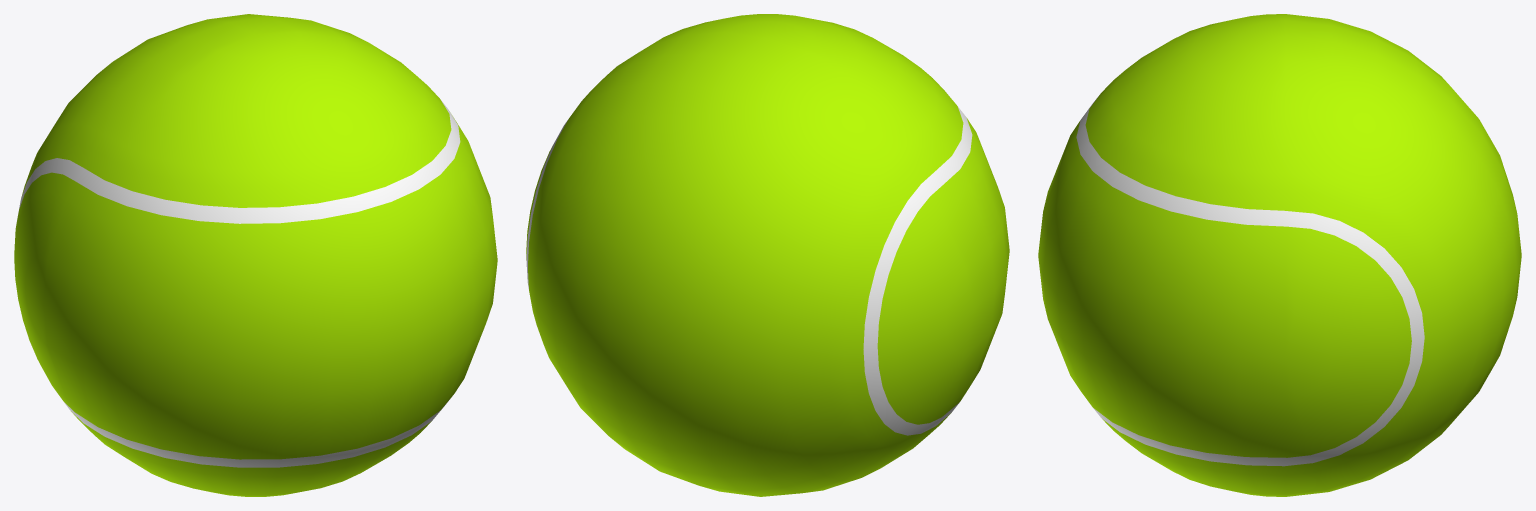
Rendered from Tennis Ball.fbx.
3 renders of one model, left to right at view 1: azimuth 30°, elevation 25°; view 2: azimuth 150°, elevation 25°; view 3: azimuth 270°, elevation 25°, orthographic.
Visible parts, largest first — view 1: Tennis Ball; view 2: Tennis Ball; view 3: Tennis Ball.
Boxes of the visible parts, x1,y1,x2,y2 form: Tennis Ball: (14,14,497,496); Tennis Ball: (526,14,1009,496); Tennis Ball: (1038,14,1521,496).
Bounding box in the file's own units: 0.0625 × 0.0625 × 0.0626.
